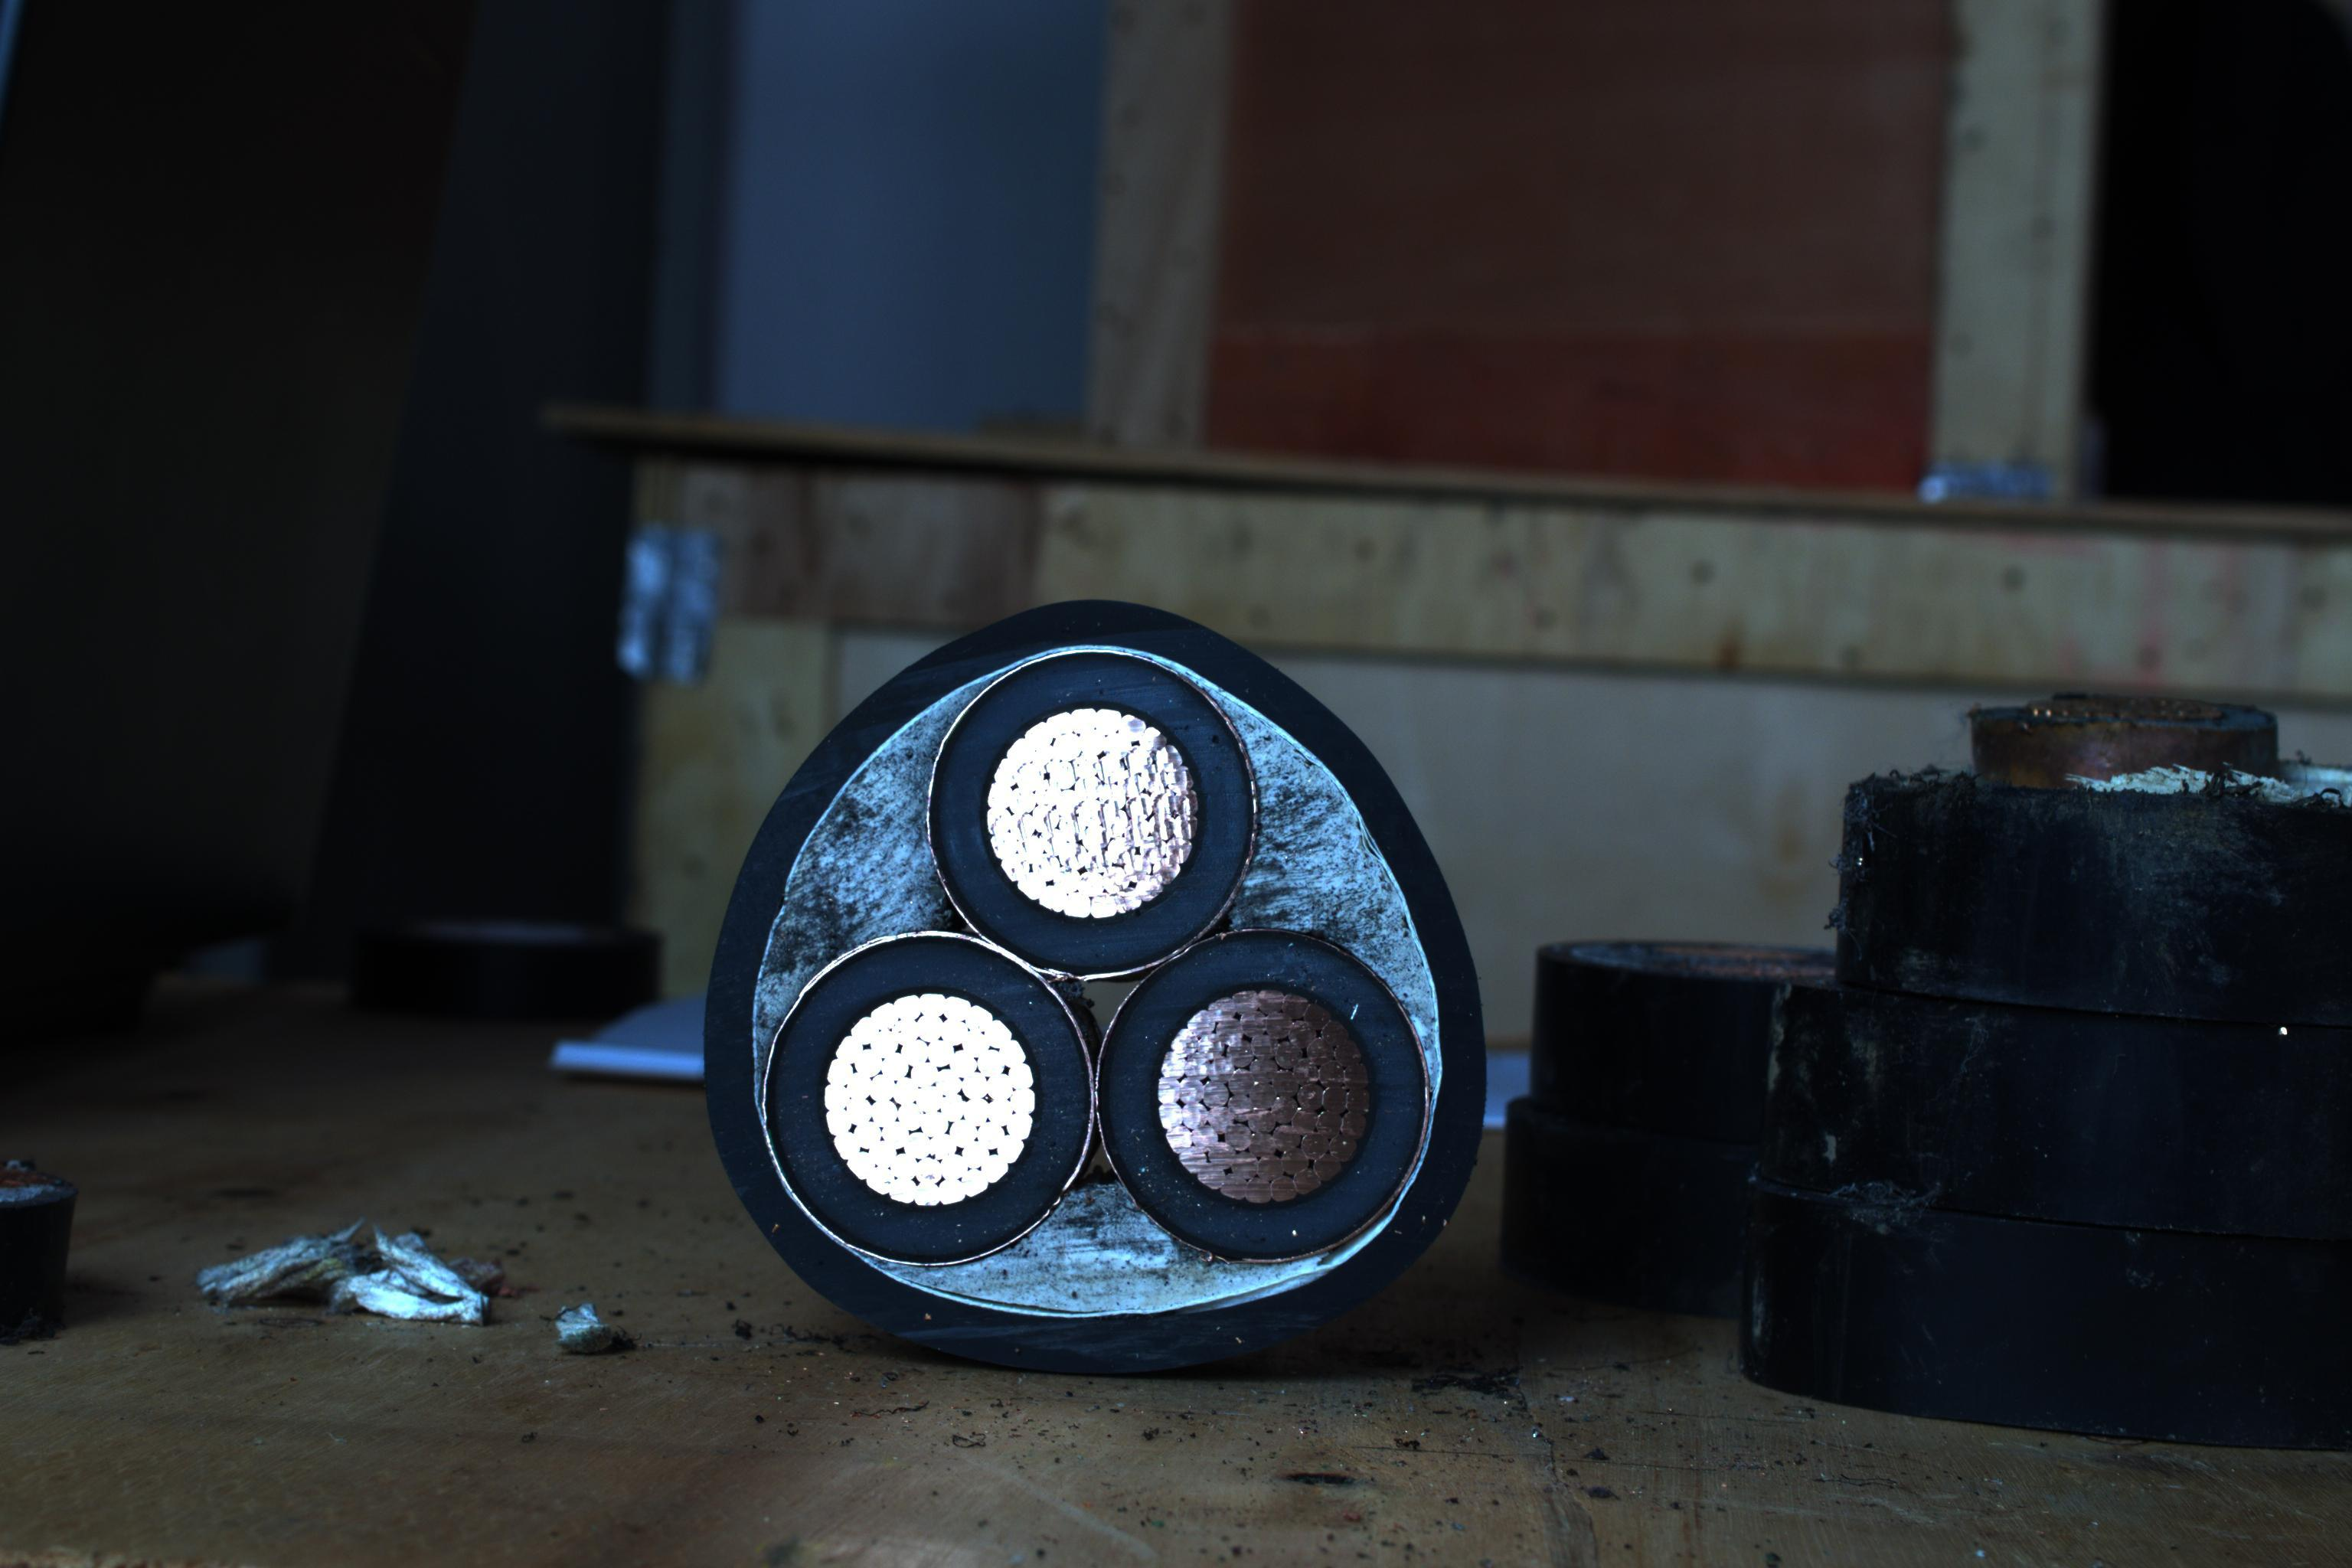ZA_YJV_8.7_10kV_3x400: (728, 602, 1501, 1349)
